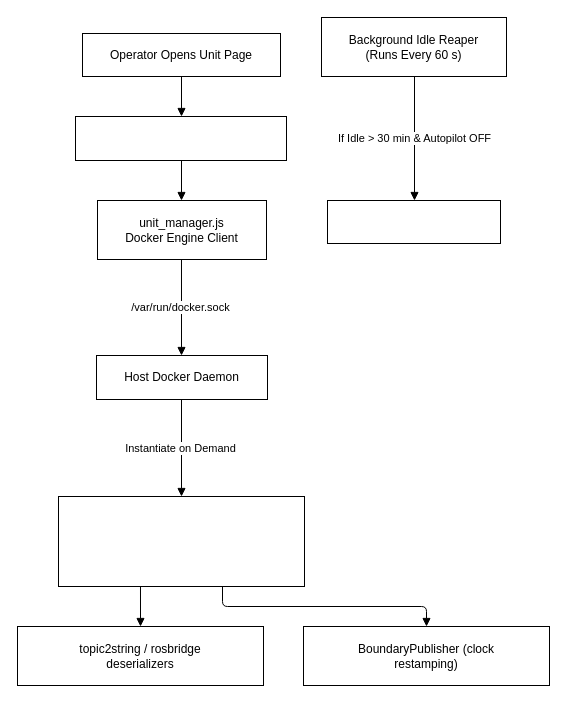
The diagram is 567 pixels wide and 703 high, and some of its shapes have lost their labels. The shapes that lost their labels are listed below. From the top down, each one's box as (x1, y1, x2, y2) in pixels, then its label:
(74, 116, 286, 160): backend_node (Express API)
(326, 200, 500, 244): docker stop Container
(58, 496, 304, 586): Container: rosweb_unit_<ULID>_nakayama Image: ros-noetic-webui-app- v2:latest
